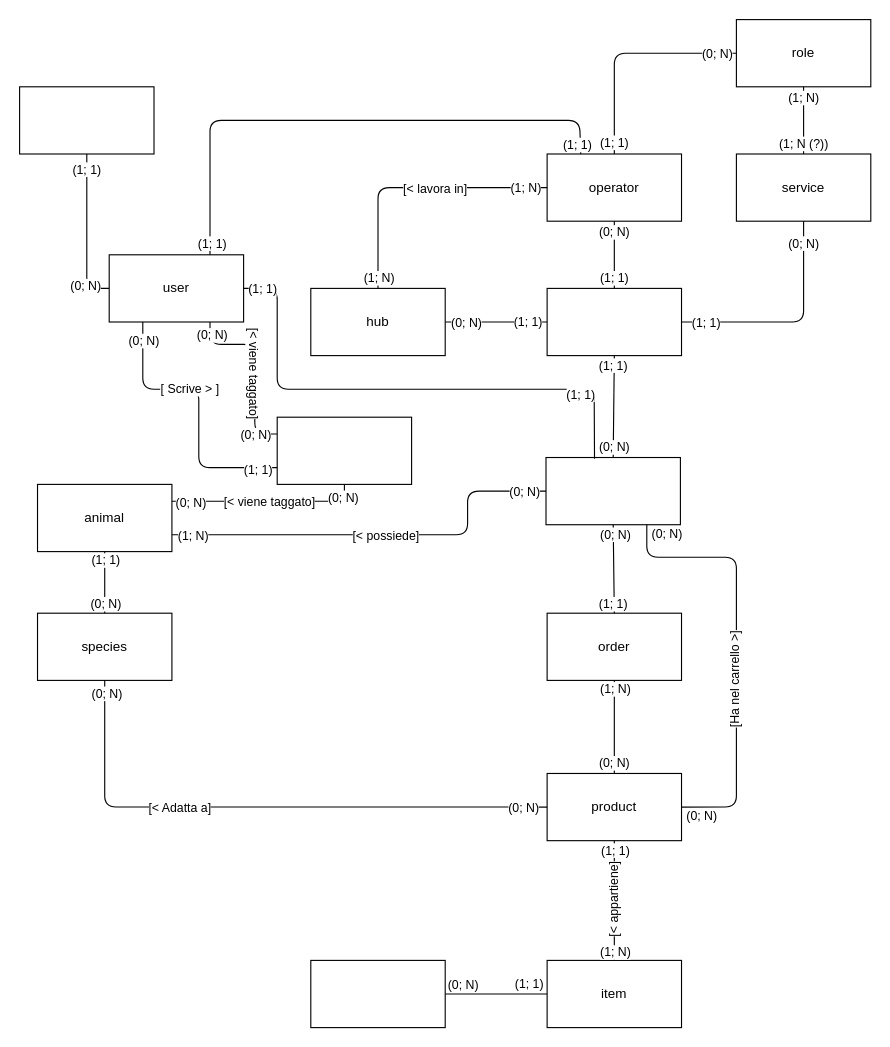
The diagram is 890 pixels wide and 1047 high, and some of its shapes have lost their labels. The box of each missing label's shape, as (x1, y1, x2, y2) in pixels:
booking: (546, 287, 682, 356)
category: (310, 959, 445, 1028)
customer: (545, 456, 680, 525)
post: (276, 416, 412, 484)
token: (18, 86, 154, 154)
